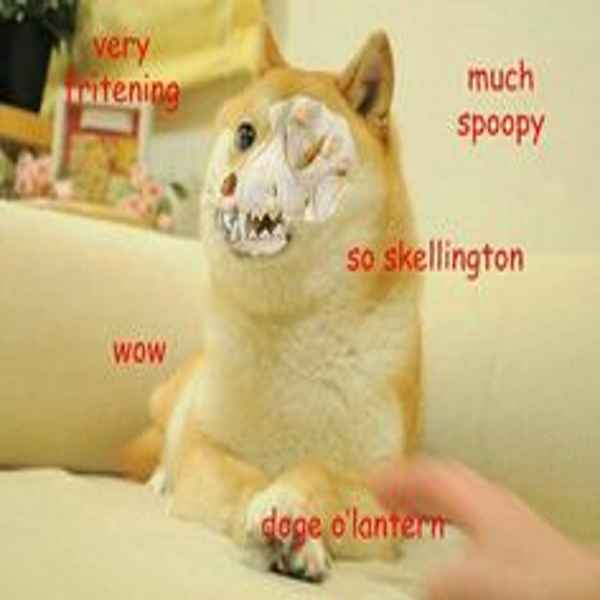doge: (196, 40, 409, 306)
